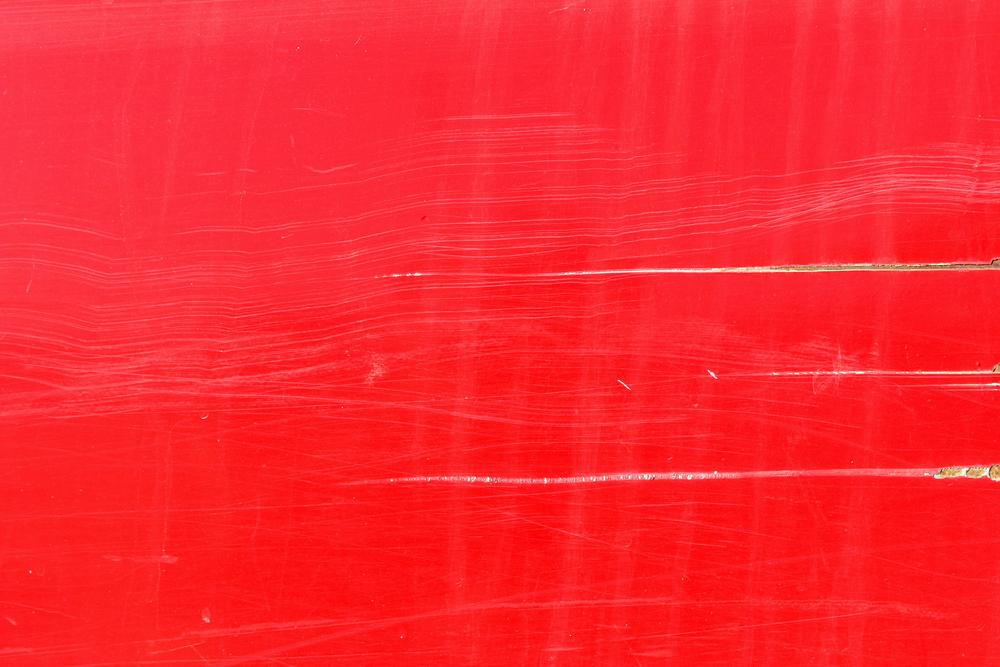scratch: (0, 43, 1000, 667)
